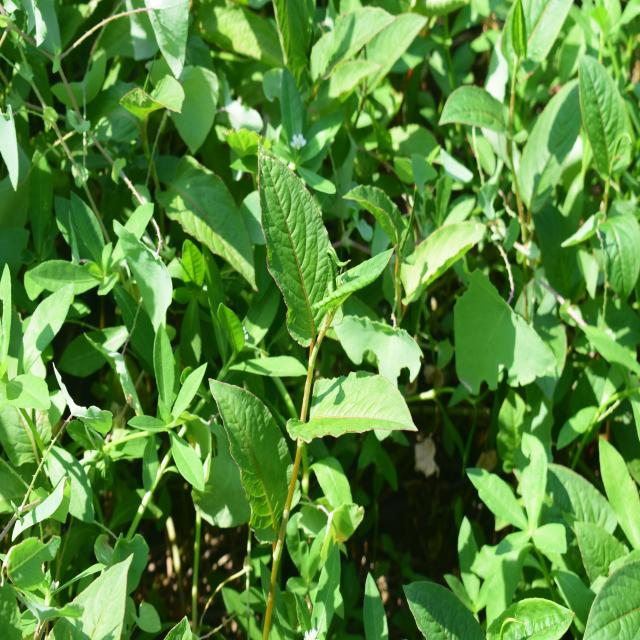Chinese_knotweed: (215, 138, 395, 550)
